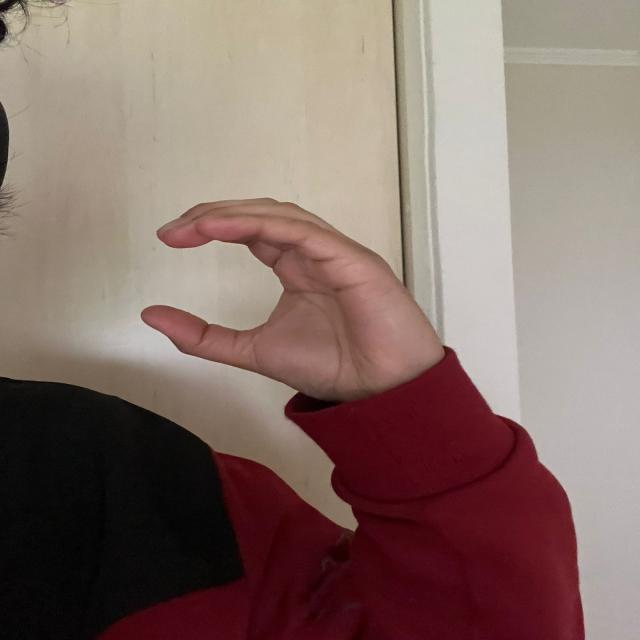C: (143, 190, 441, 417)
